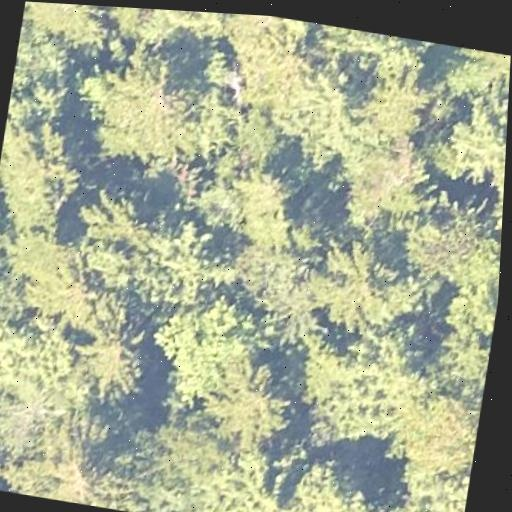tree-top: (288, 329, 428, 471), (87, 415, 277, 512), (71, 186, 224, 306), (88, 42, 203, 169), (152, 290, 261, 416), (2, 396, 119, 508), (0, 106, 91, 247), (262, 52, 366, 166), (223, 157, 334, 262), (0, 293, 94, 416), (0, 221, 101, 335), (202, 350, 309, 456), (405, 180, 504, 288), (307, 235, 406, 342), (393, 382, 483, 495), (335, 126, 431, 230), (235, 246, 326, 344), (6, 30, 87, 131), (208, 13, 303, 98), (305, 23, 435, 81), (442, 96, 508, 195), (77, 314, 154, 398), (416, 321, 493, 405), (104, 6, 225, 59), (180, 83, 246, 176), (278, 455, 376, 512), (357, 69, 436, 138), (374, 462, 470, 512), (0, 385, 49, 469), (20, 1, 113, 45), (439, 275, 499, 340), (229, 106, 283, 174), (450, 47, 511, 97), (0, 260, 33, 344)
